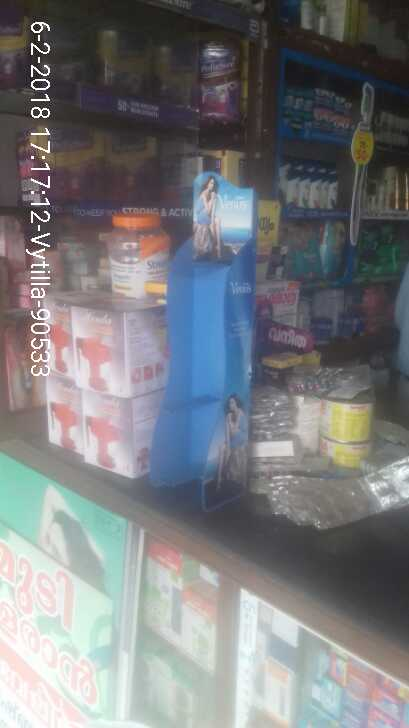reject: (162, 260, 289, 401)
